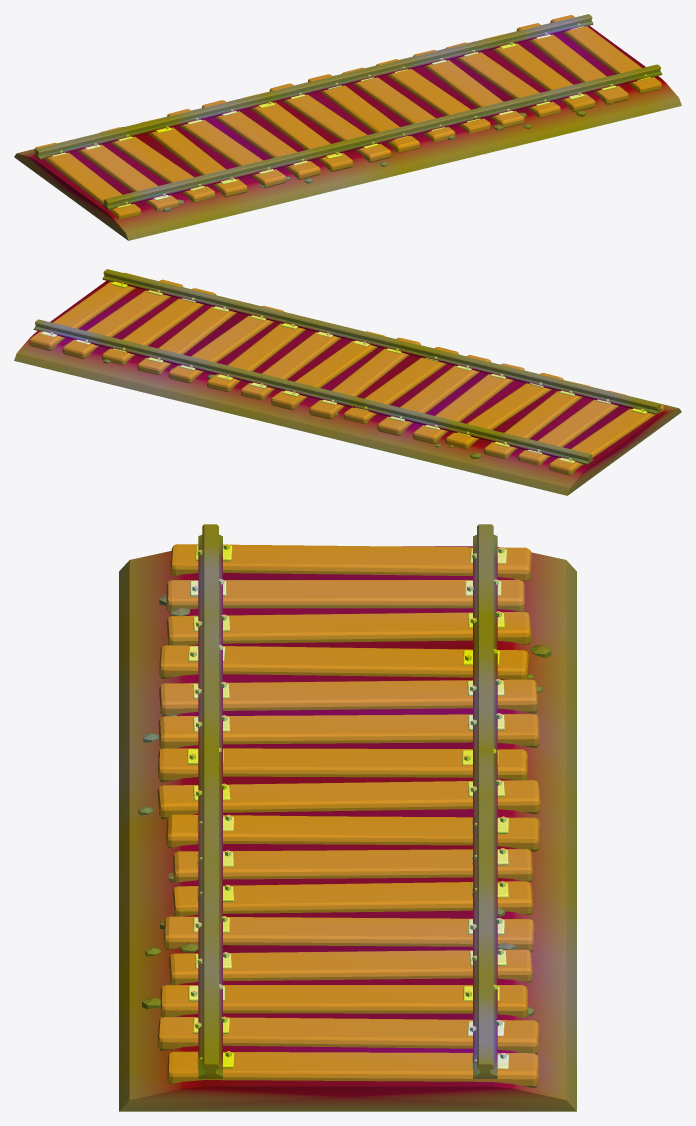
File: Track_Straight_12m.fbx
3 views of the same model, one above another, from view 1: azimuth 30°, elevation 25°; view 2: azimuth 150°, elevation 25°; view 3: azimuth 270°, elevation 25° (orthographic). The views are drawn at different scales.
Parts seen in each view (by area): view 1: Track_Straight_12m; view 2: Track_Straight_12m; view 3: Track_Straight_12m.
Boxes of the visible parts, box(x1,y1,x2,y2) form: Track_Straight_12m: box(14, 14, 681, 240); Track_Straight_12m: box(14, 269, 681, 495); Track_Straight_12m: box(119, 524, 576, 1111).
Size of the model in its own units: 12 by 0.49 by 4.3.
